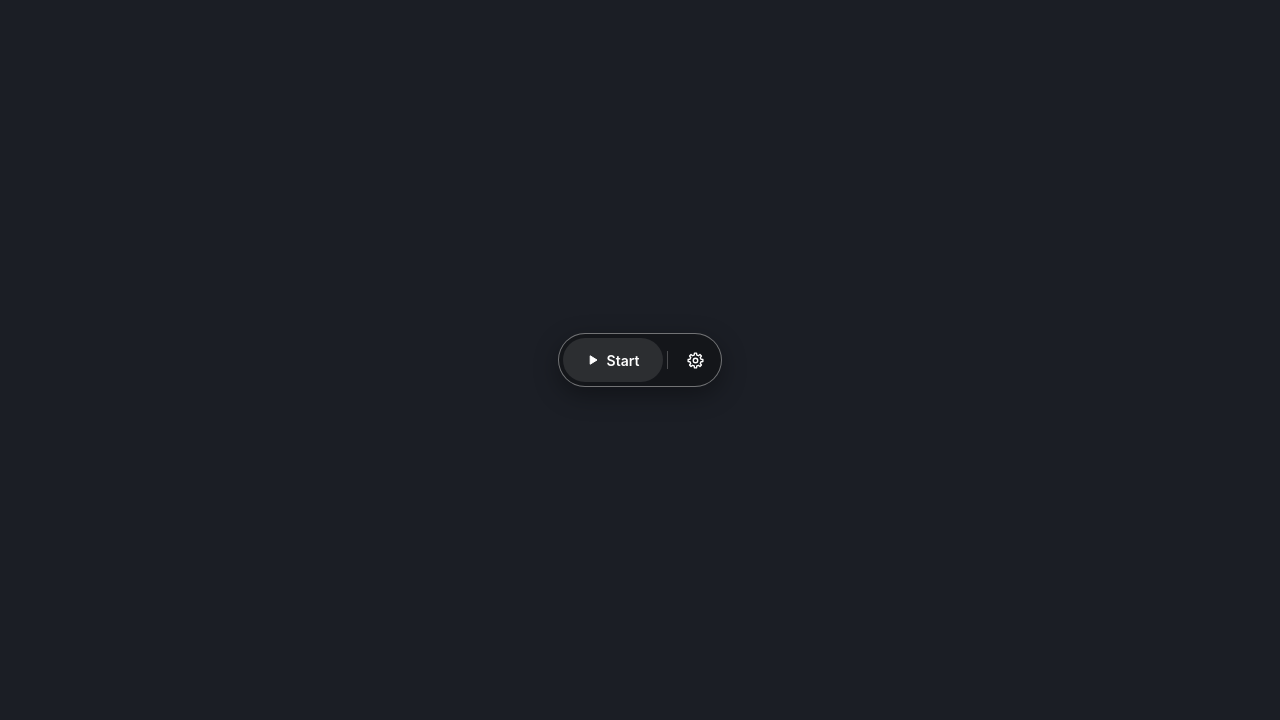
Scenario: save as new › saves the current values under the trimmed name and selects it
Type keys "s"
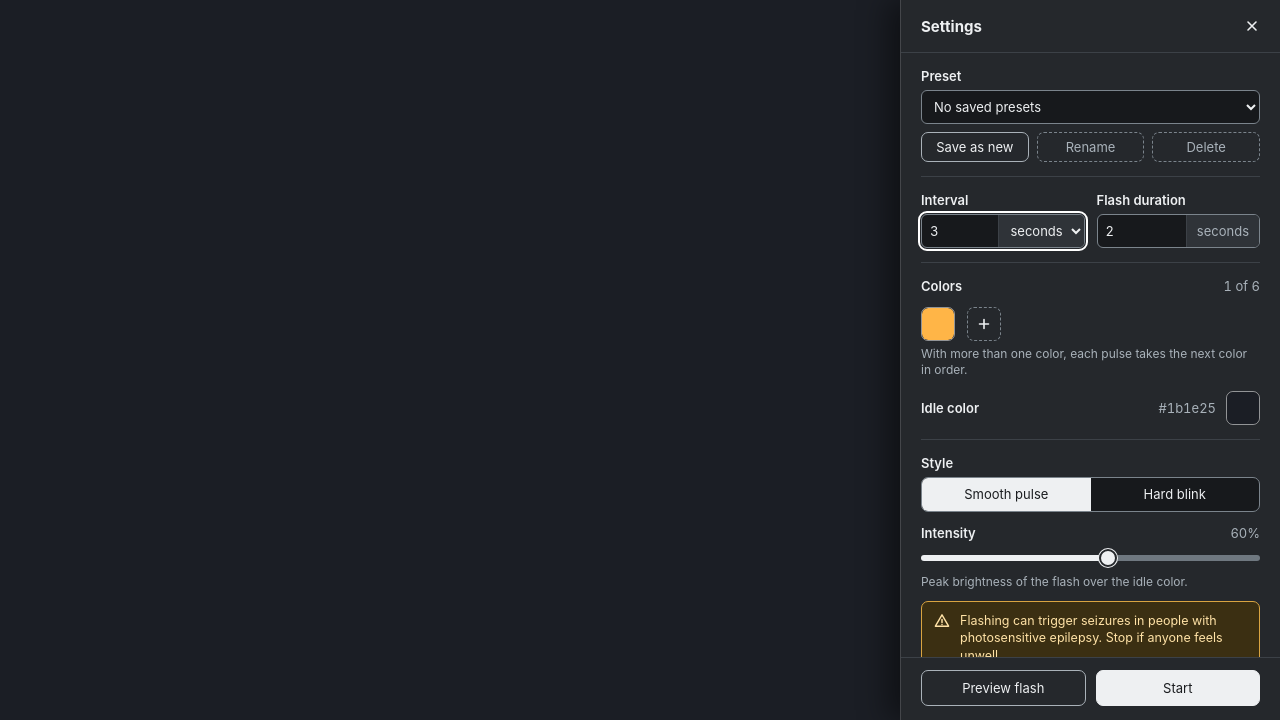
Type "0" into the number field labelled "Interval" at (960, 231), box x1=922 y1=215 x2=998 y2=247
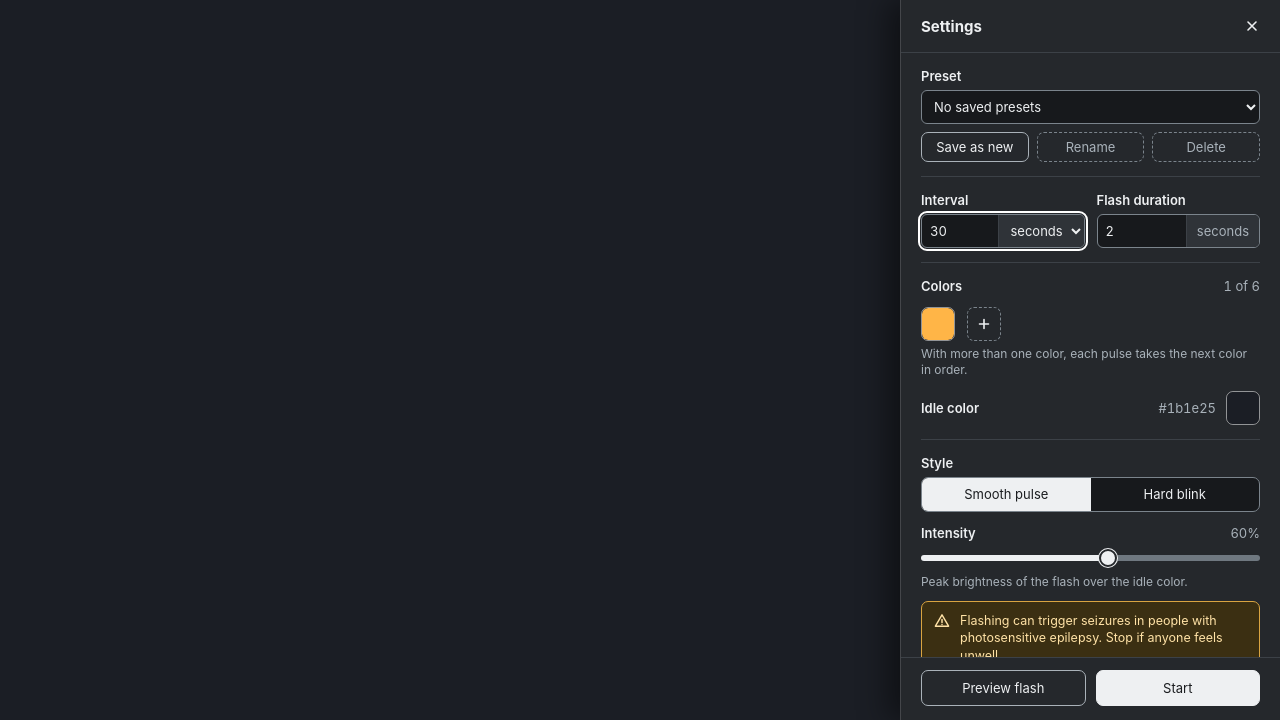
Click the button "Save as new" at (975, 147), box x1=921 y1=132 x2=1029 y2=162
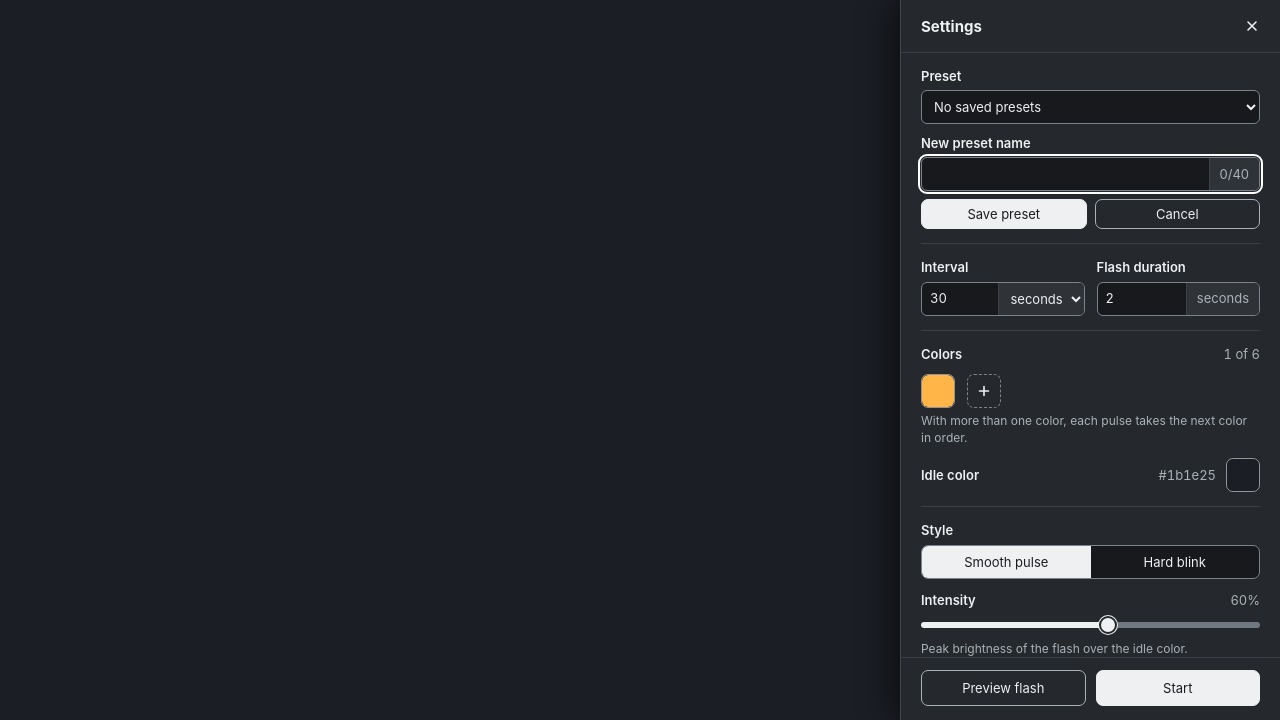
Type "  Desk break " into the field at (1065, 174), box x1=922 y1=158 x2=1208 y2=190
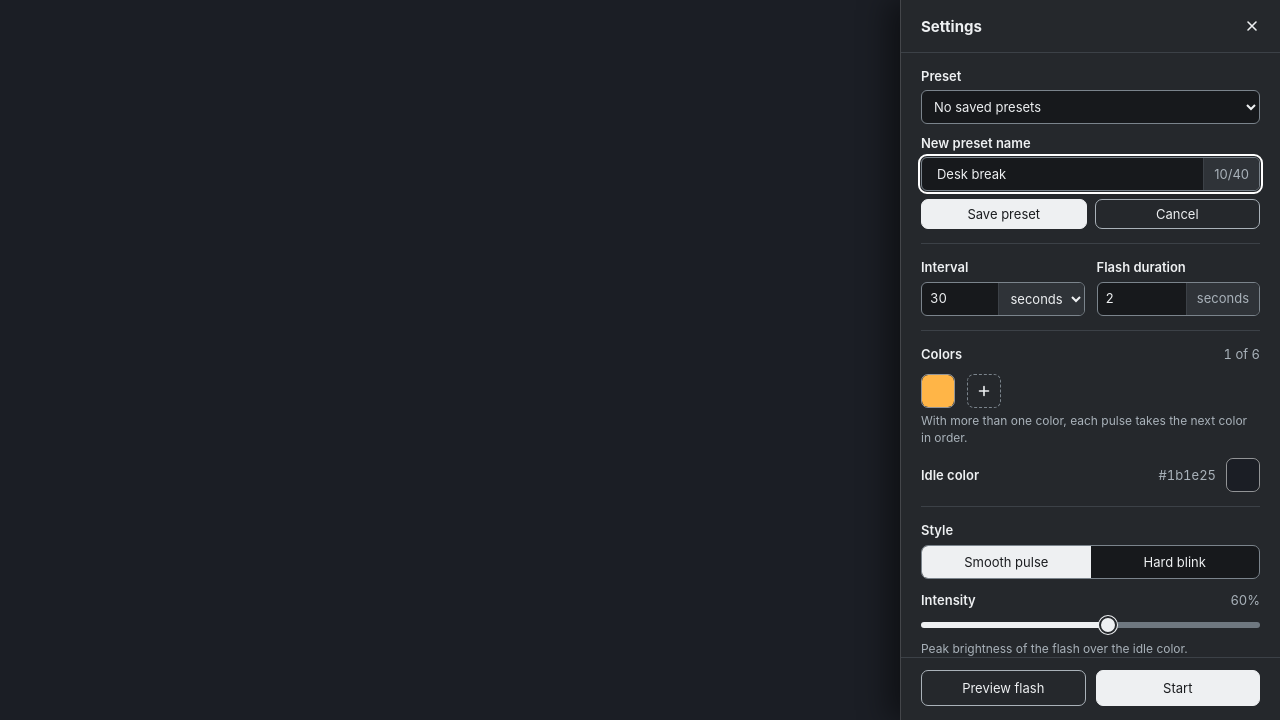
Click the button "Save preset" at (1004, 214), box x1=921 y1=199 x2=1086 y2=229
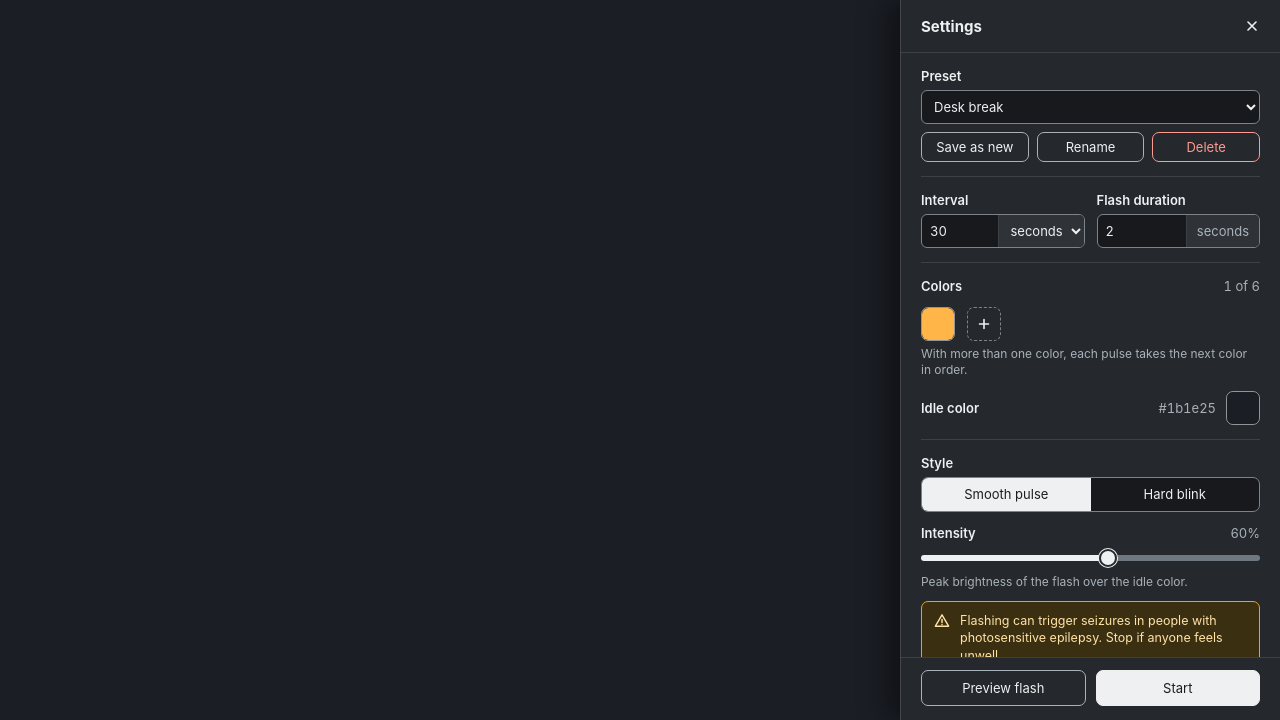
Expected: the field is gone
